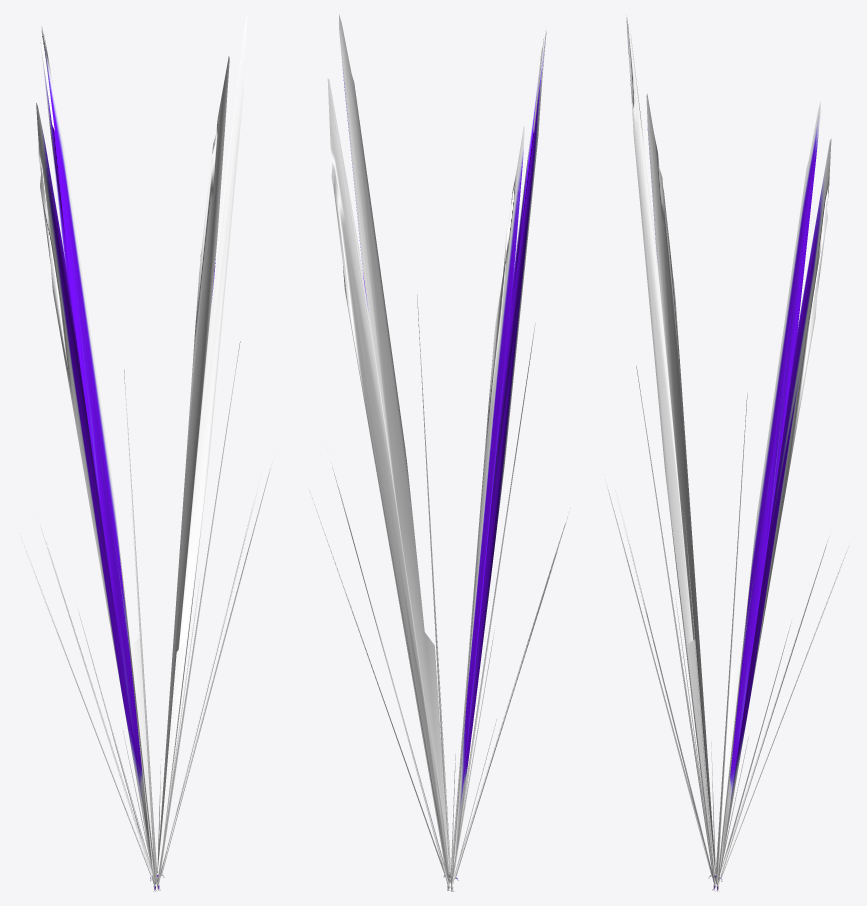
Rendered from frieza_emperor_of_the_universe_84fa59.fbx.
3 views of the same model, side by side, from view 1: azimuth 30°, elevation 25°; view 2: azimuth 150°, elevation 25°; view 3: azimuth 330°, elevation 25° (orthographic). The views are drawn at different scales.
Parts seen in each view (by area): view 1: frieza_emperor_of_the_universe_84fa59; view 2: frieza_emperor_of_the_universe_84fa59; view 3: frieza_emperor_of_the_universe_84fa59.
Boxes of the visible parts, x1,y1,x2,y2 form: frieza_emperor_of_the_universe_84fa59: (17, 14, 273, 891); frieza_emperor_of_the_universe_84fa59: (310, 14, 569, 891); frieza_emperor_of_the_universe_84fa59: (604, 15, 848, 891).
Size of the model in its own units: 1.9 by 6.39 by 0.7399.
1 material, 1 textured.
